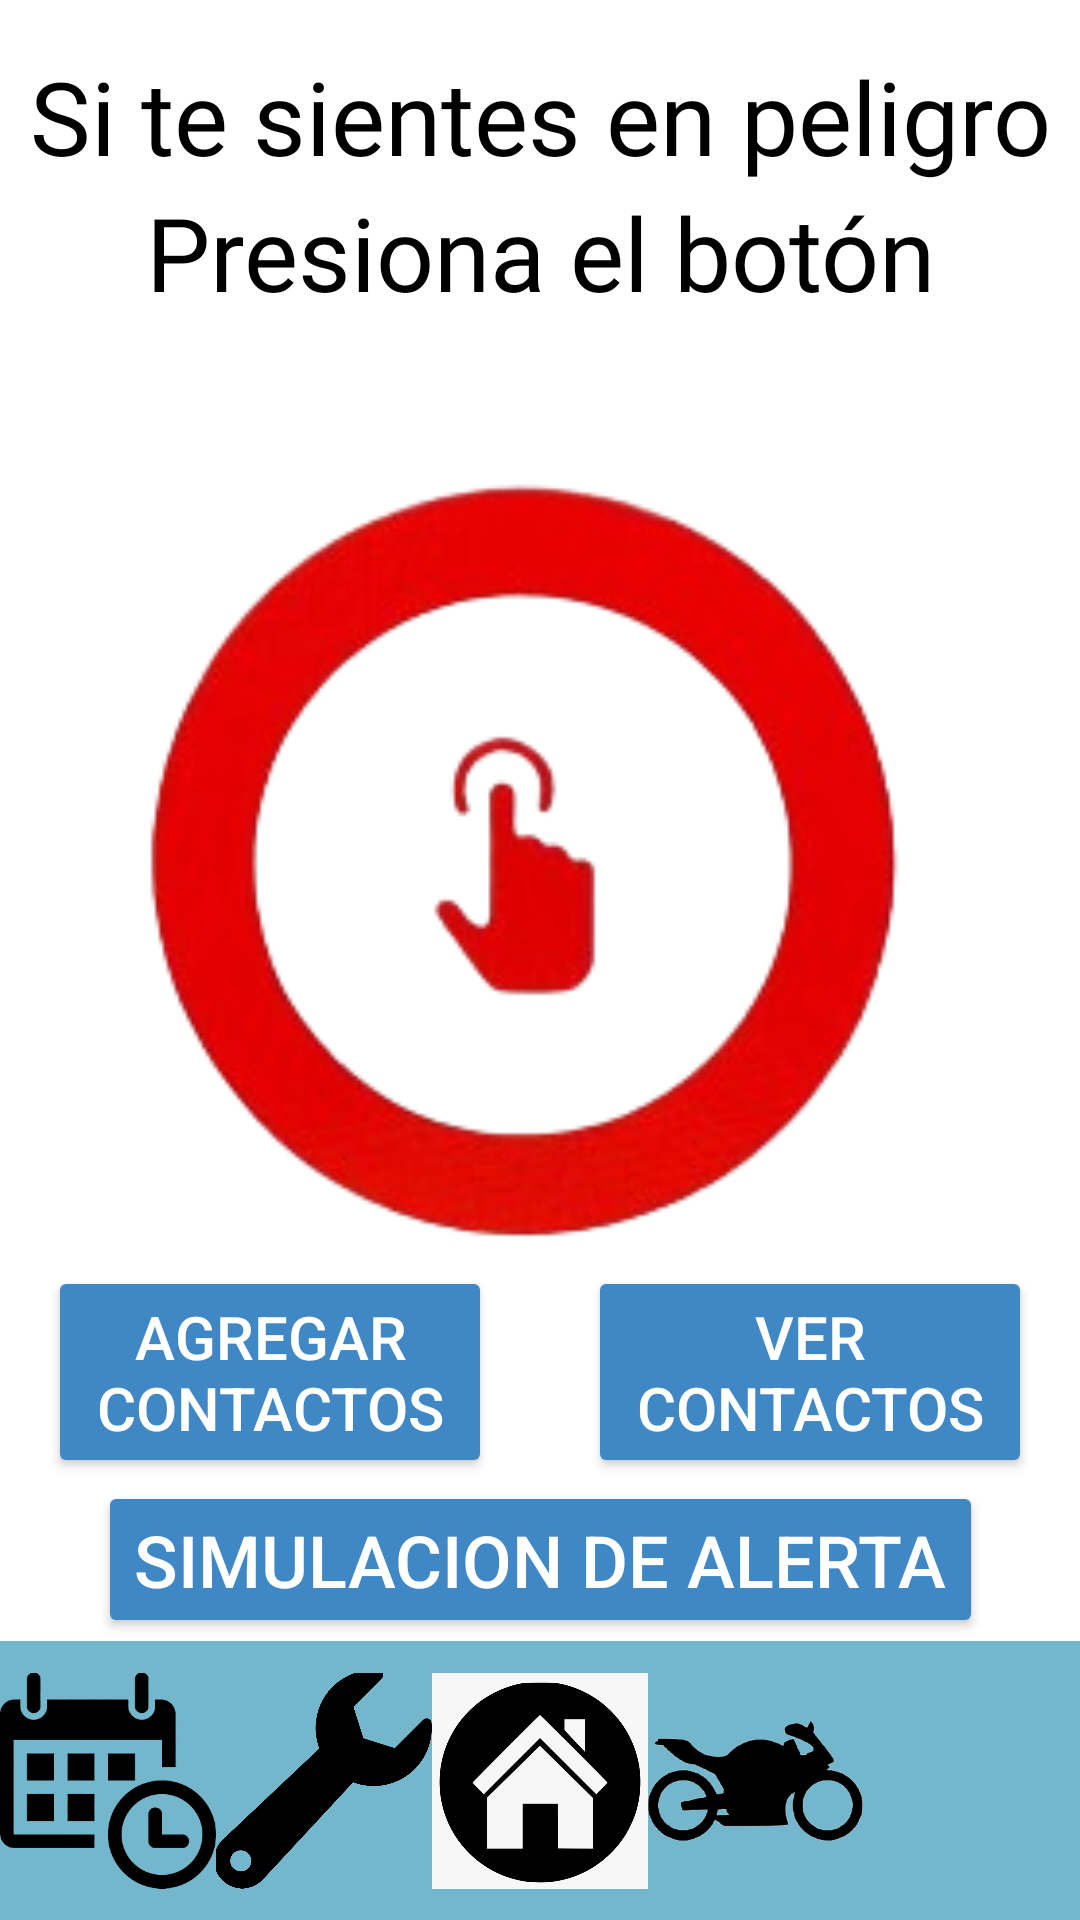

Icons on this 1080px×1920px Android screen, each with the point to tap as (x=x, y=y):
calendarioapp: (x=108, y=1780)
homer: (x=540, y=1781)
llaver: (x=324, y=1781)
motors: (x=755, y=1781)
